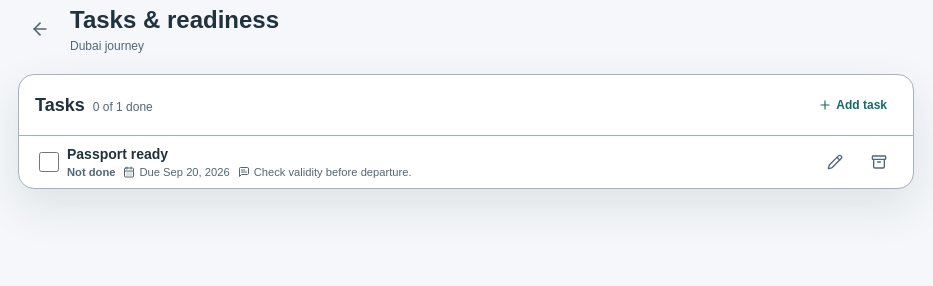
it: readiness checklist interactions › keeps the compact checkbox as the direct completion control
Click the checkbox named "Mark as done: Passport ready": [49, 162] box [39,152,59,172]
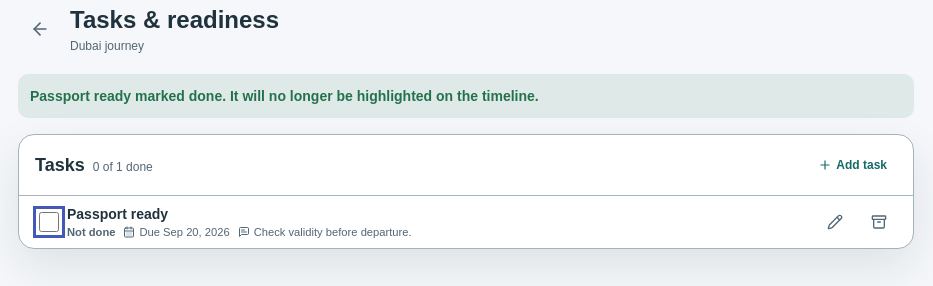
Expected: the message shows "marked done", [30,88,539,104]
